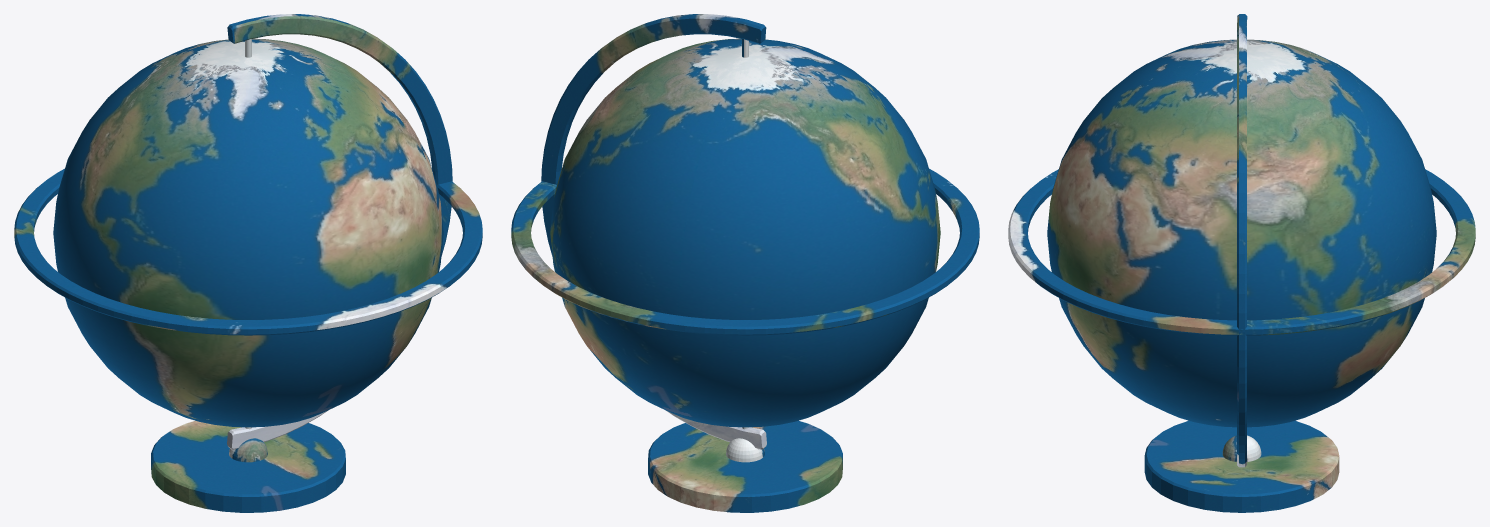
File: Globe.FBX
3 views of the same model, side by side, from view 1: azimuth 30°, elevation 25°; view 2: azimuth 150°, elevation 25°; view 3: azimuth 270°, elevation 25° (orthographic).
Visible parts, largest first — view 1: Globe; view 2: Globe; view 3: Globe.
Part boxes in pixels (x1,y1,x2,y2): Globe: (14, 14, 482, 512); Globe: (511, 14, 979, 512); Globe: (1008, 14, 1475, 512).
Size of the model in its own units: 23.76 by 25.25 by 23.76.
Materials: 1 (1 with a texture image).
